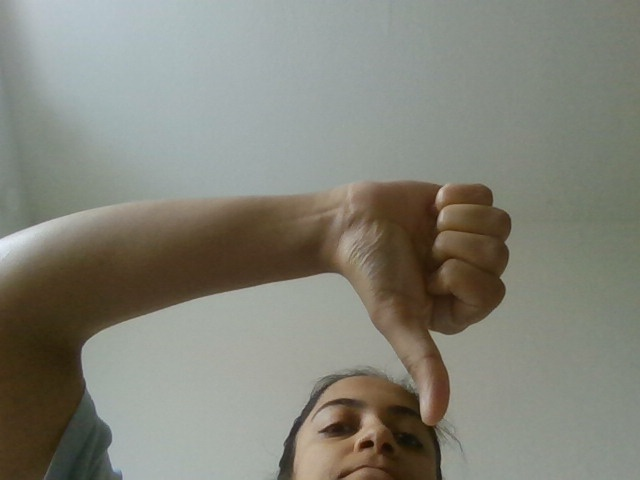Thumbs down: (318, 156, 516, 427)
